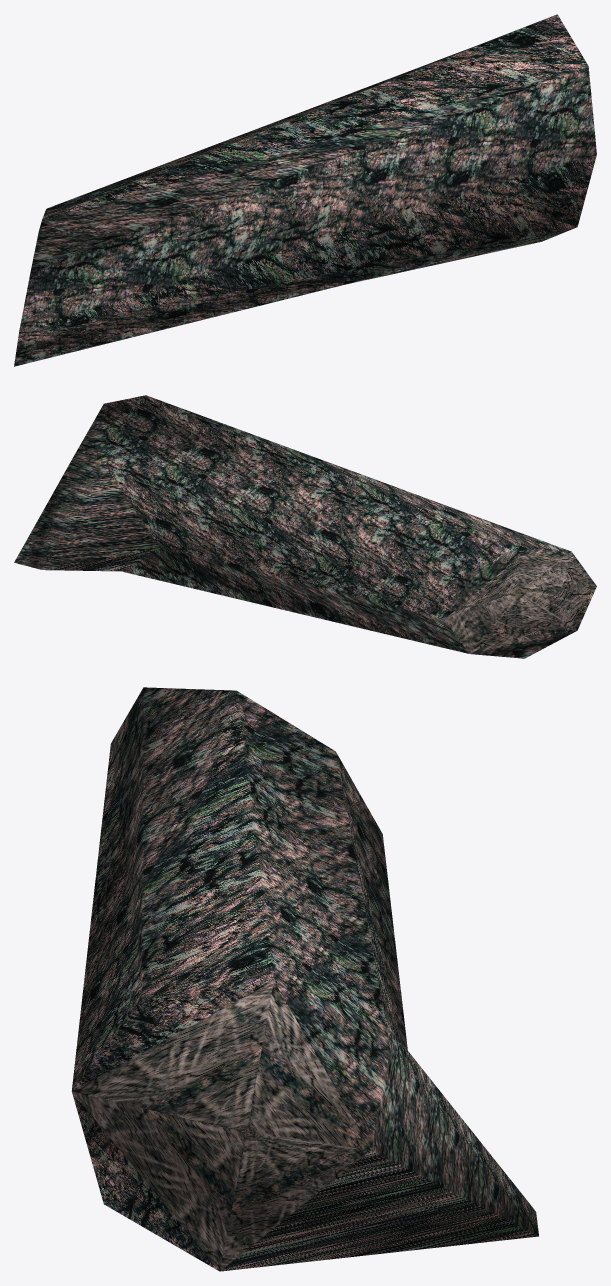
File: decd_dath_blacktreelog_l2.fbx
3 views of the same model, one above another, from view 1: azimuth 30°, elevation 25°; view 2: azimuth 150°, elevation 25°; view 3: azimuth 270°, elevation 25° (orthographic). The views are drawn at different scales.
Parts seen in each view (by area): view 1: mesh_node; view 2: mesh_node; view 3: mesh_node.
Boxes of the visible parts, left/top/right/bottom form: mesh_node: left=14, top=14, right=596, bottom=366; mesh_node: left=14, top=395, right=596, bottom=658; mesh_node: left=71, top=687, right=538, bottom=1271.
Bounding box in the file's own units: 6.89 × 2.18 × 2.93.
